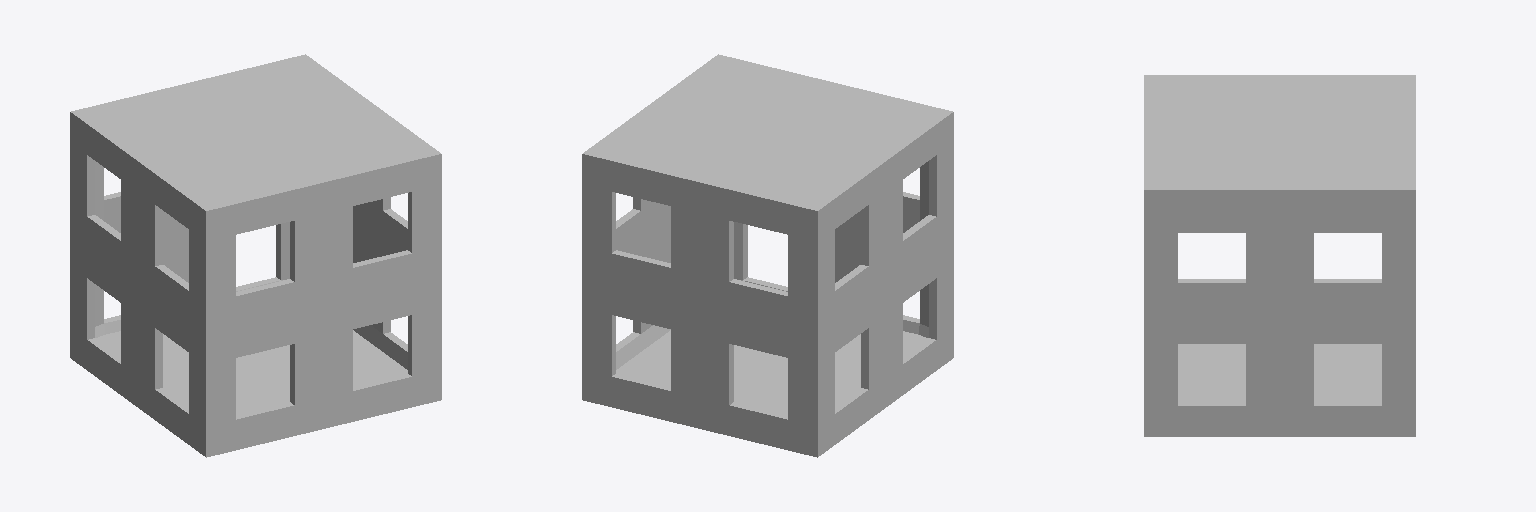
The model's file is StageEdit.obj.
3 views of the same model, side by side, from view 1: azimuth 30°, elevation 25°; view 2: azimuth 150°, elevation 25°; view 3: azimuth 270°, elevation 25° (orthographic).
Visible parts, largest first — view 1: te_立方体.004, 立方体.001, 立方体; view 2: te_立方体.004, 立方体.001; view 3: te_立方体.004, 立方体.001.
Part boxes in pixels (bbox=[...]): te_立方体.004: bbox=[70, 54, 441, 457]; 立方体.001: bbox=[79, 330, 407, 444]; 立方体: bbox=[77, 125, 201, 226]; te_立方体.004: bbox=[582, 54, 953, 457]; 立方体.001: bbox=[616, 330, 947, 429]; te_立方体.004: bbox=[1144, 75, 1415, 436]; 立方体.001: bbox=[1178, 344, 1381, 401].
Bounding box in the file's own units: 60 × 60 × 60.